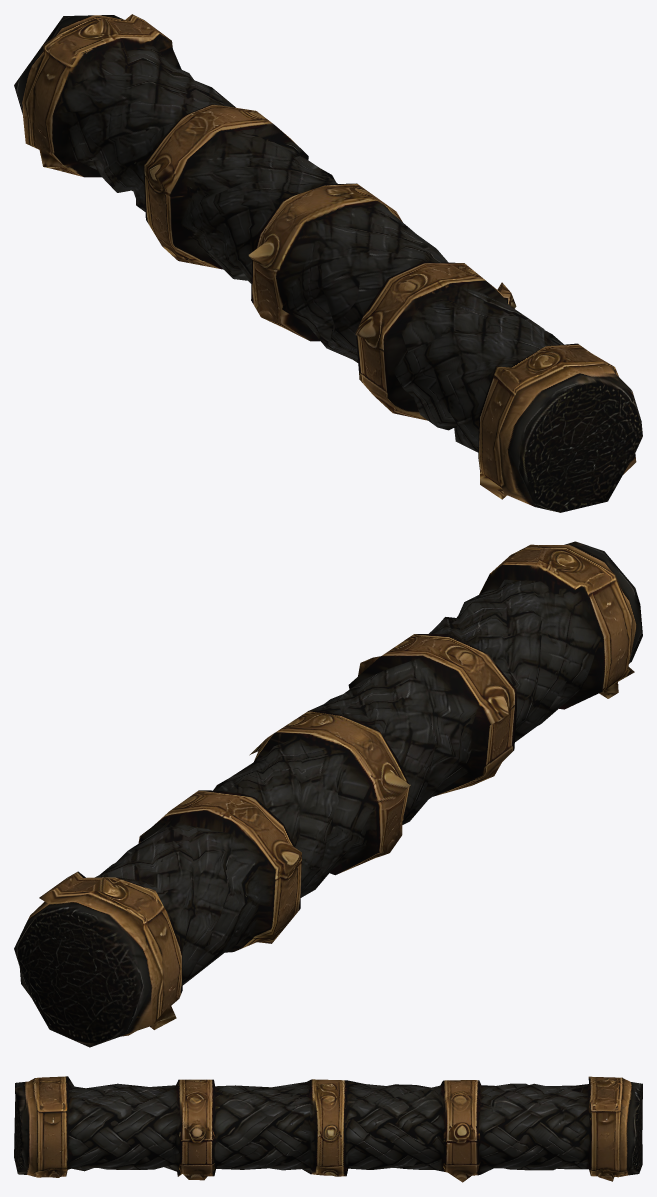
The model's file is raw_cable.glb.
The picture shows the model from 3 angles, top to bottom: view 1: azimuth 30°, elevation 25°; view 2: azimuth 150°, elevation 25°; view 3: azimuth 270°, elevation 25°; orthographic projection. The views are drawn at different scales.
Visible parts, largest first — view 1: tripo_node_1b6b366e-cfdf-4b56-9424-d6715187727e; view 2: tripo_node_1b6b366e-cfdf-4b56-9424-d6715187727e; view 3: tripo_node_1b6b366e-cfdf-4b56-9424-d6715187727e.
Boxes of the visible parts, <box> form: tripo_node_1b6b366e-cfdf-4b56-9424-d6715187727e: <box>14,14,642,512</box>; tripo_node_1b6b366e-cfdf-4b56-9424-d6715187727e: <box>14,541,642,1047</box>; tripo_node_1b6b366e-cfdf-4b56-9424-d6715187727e: <box>14,1076,642,1182</box>.
Size of the model in its own units: 0.1799 by 0.1709 by 1.
Materials: 1 (1 with a texture image).
